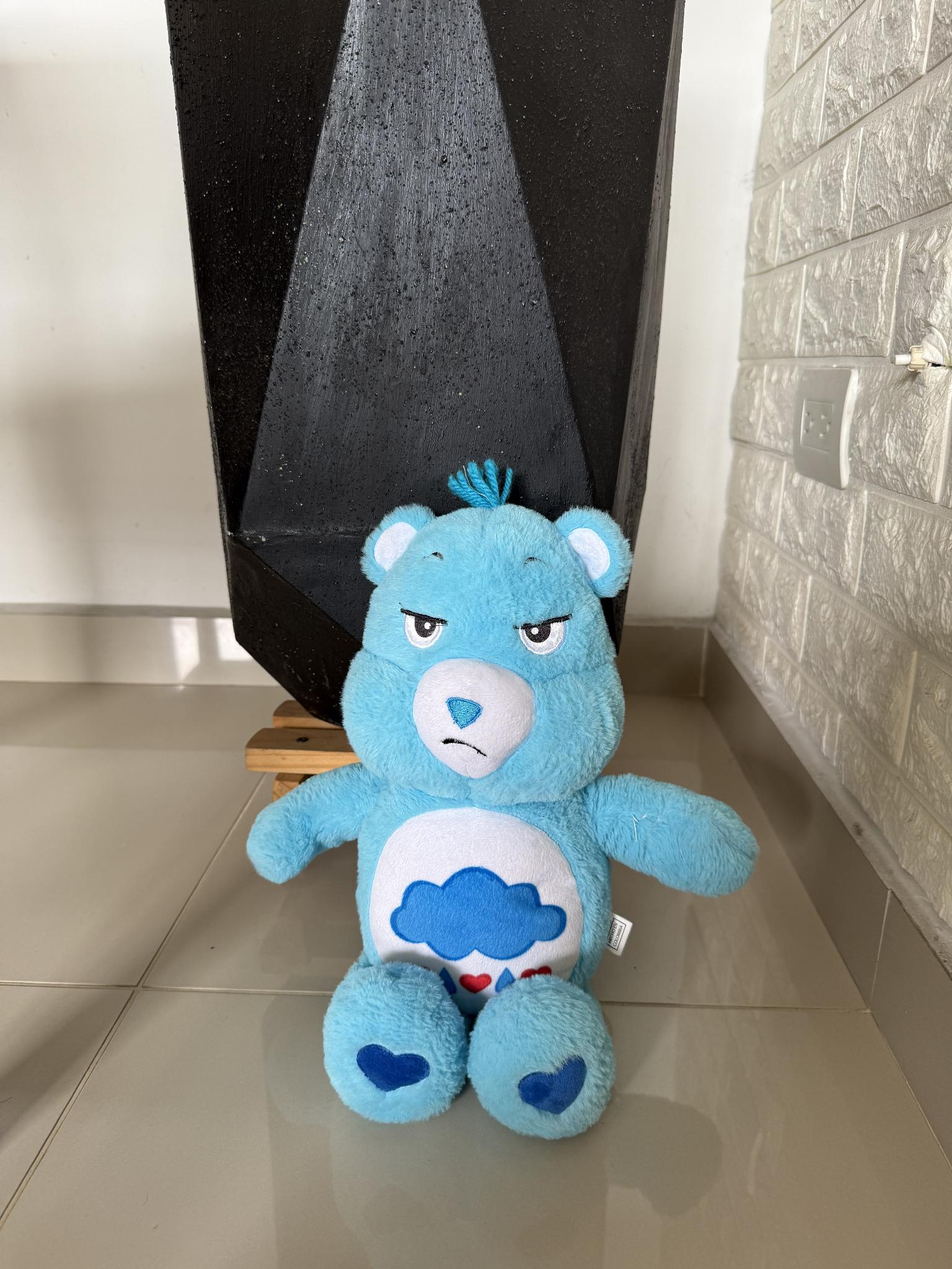peluche_Juan Jose: (333, 498, 636, 1140)
